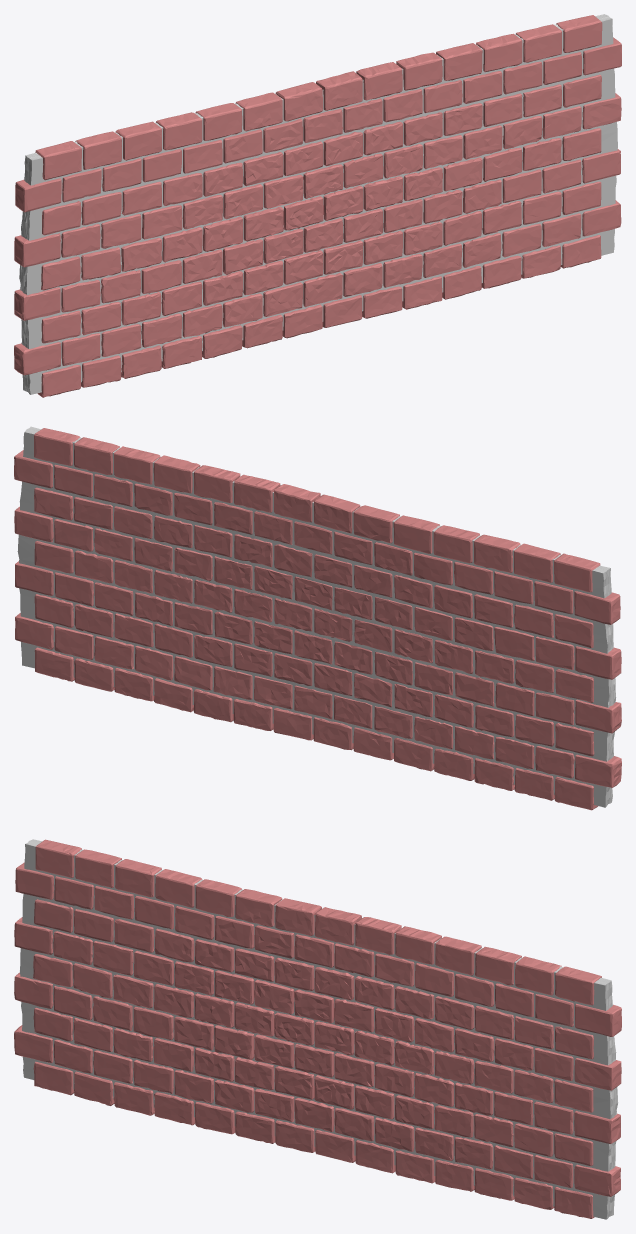
Rendered from BrickWall_Stock_01_LOD1.glb.
3 views of the same model, one above another, from view 1: azimuth 30°, elevation 25°; view 2: azimuth 150°, elevation 25°; view 3: azimuth 330°, elevation 25° (orthographic).
Parts seen in each view (by area): view 1: Box 4; view 2: Box 4; view 3: Box 4.
Boxes of the visible parts, bbox=[...] form: Box 4: bbox=[14, 14, 621, 397]; Box 4: bbox=[14, 426, 621, 810]; Box 4: bbox=[14, 839, 621, 1219].
Bounding box in the file's own units: 2.71 × 1.06 × 0.09.
